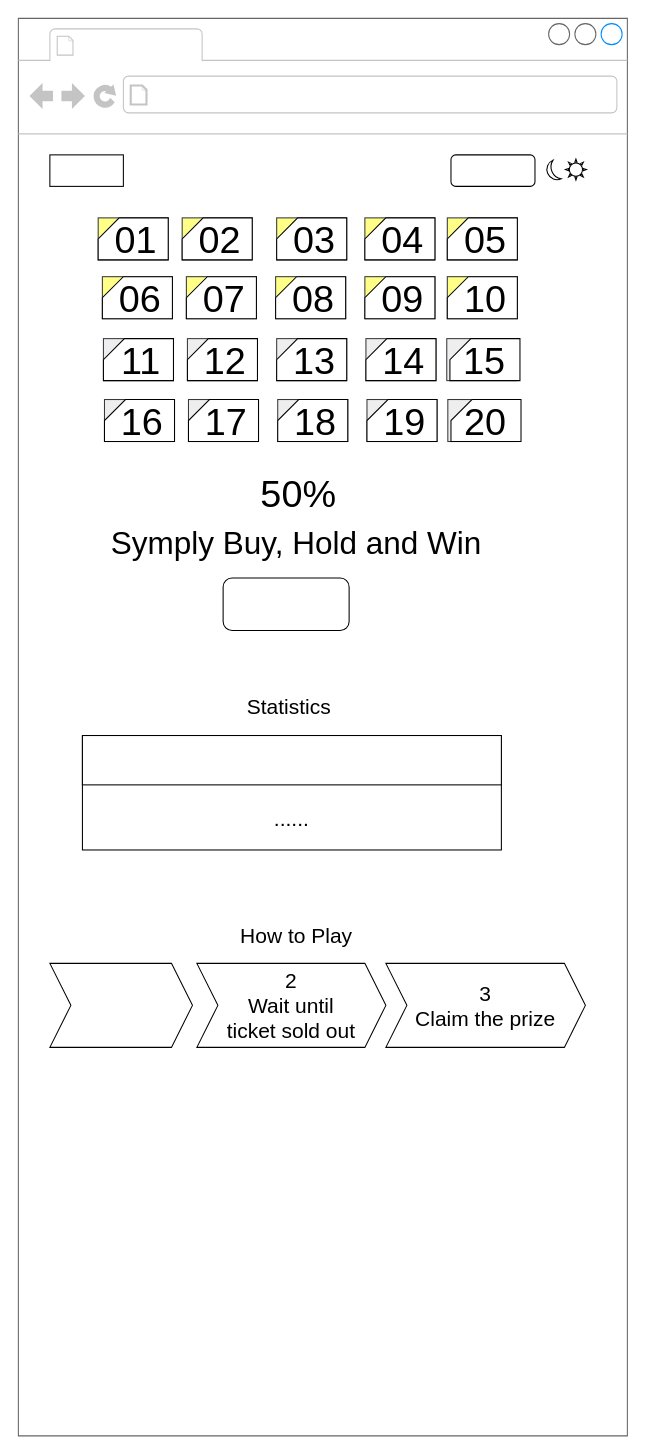
The diagram is 646 pixels wide and 1454 high, and some of its shapes have lost their labels. The shapes that lost their labels are listed below. From the top down, each one's box as (x1, y1, x2, y2) in pixels, then its label:
(80, 30, 197, 58): Page 1
(154, 80, 417, 109): https://www.paradice.bet
(49, 154, 123, 186): Logo
(450, 154, 535, 186): Login
(222, 577, 349, 631): Buy Tickets
(81, 734, 501, 785): Hash Winner Pool Size Date
(49, 962, 192, 1047): 1 Buy Tickets
